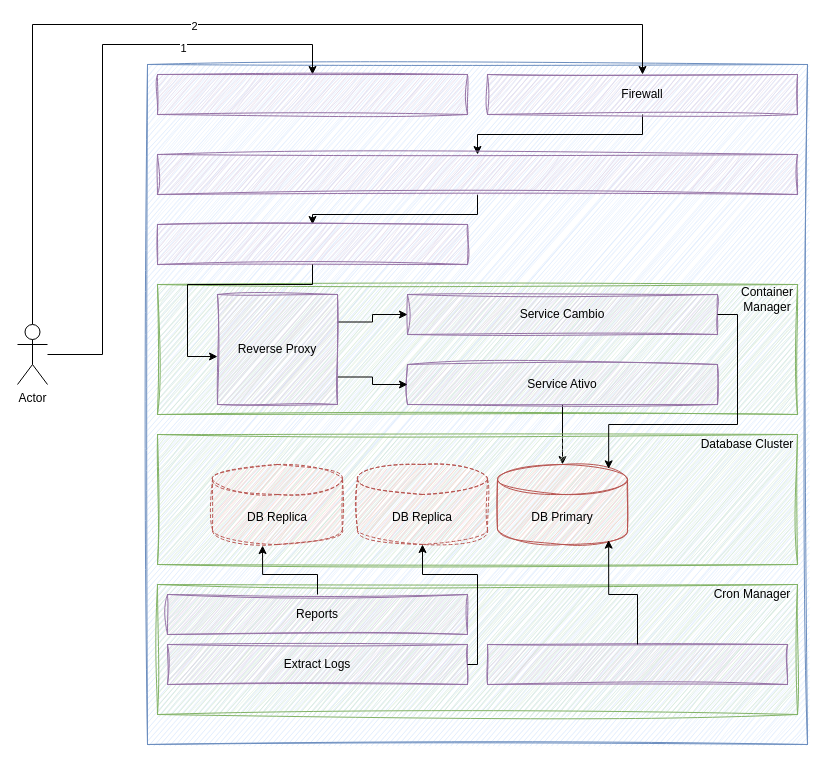
Image size: 825x762. Some labels were removed from this diagram. The shapes that lost their labels are listed below. From the top down, each one's centre as x and y in pixels, then its label:
the point at 312,94: DNS
the point at 477,174: CDN / Cache
the point at 312,244: Static Page Store
the point at 637,664: Update exchange
